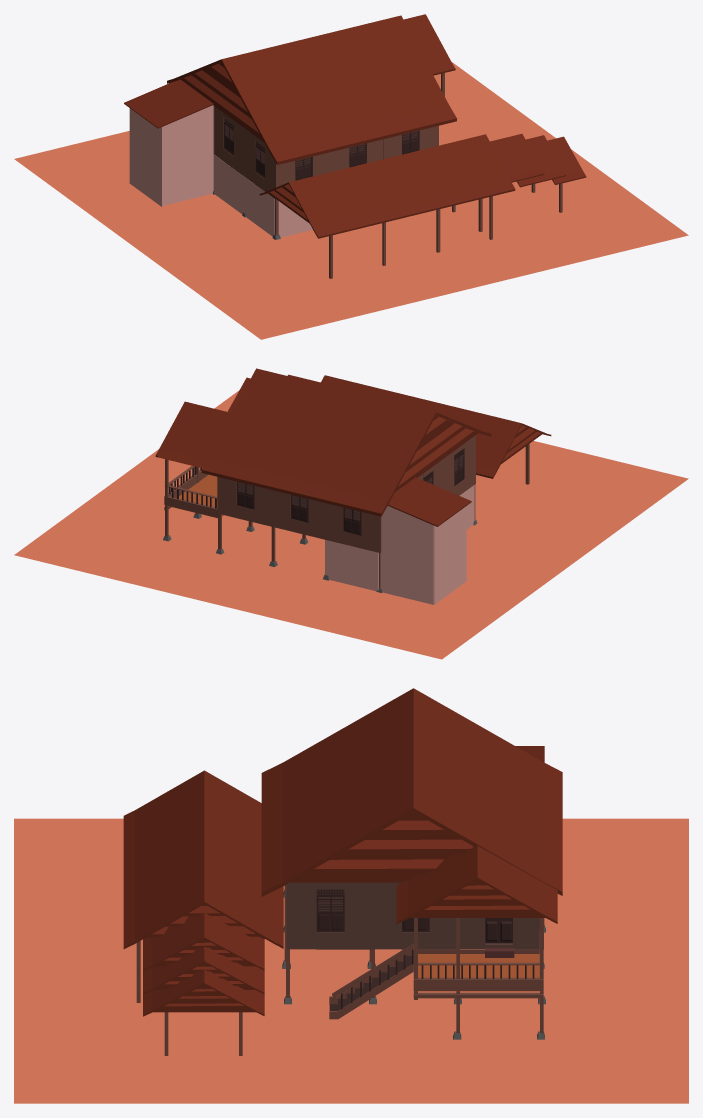
File: rumah_adat_soppeng.glb
3 renders of one model, top to bottom at view 1: azimuth 30°, elevation 25°; view 2: azimuth 150°, elevation 25°; view 3: azimuth 270°, elevation 25°, orthographic. The views are drawn at different scales.
Visible parts, largest first — view 1: Plane, Cube.039, Cube.058, Cube.091, Cube.092, Cube.093, Cube.124, Cube.107, Cube.176, Cube.057, Cube.041, Cube.056 (+2 smaller); view 2: Plane, Cube.039, Cube.229, Cube.090, Cube.058, Cube.041, Cube.092, Cube.107, Cube.108, Cube.093, Cube.245, Cube.037 (+2 smaller); view 3: Plane, Cube.039, Cube.058, Cube.074, Cube.041, Cube.057, Cube.042, Cube.245, Cube.056, Cube.246, Cube.037, Cube.314 (+3 smaller).
Part boxes in pixels (x1=…): Plane: x1=14, y1=62, x2=688, y2=339; Cube.039: x1=167, y1=15, x2=456, y2=164; Cube.058: x1=259, y1=134, x2=515, y2=238; Cube.091: x1=163, y1=105, x2=213, y2=205; Cube.092: x1=129, y1=108, x2=162, y2=206; Cube.093: x1=213, y1=106, x2=278, y2=199; Cube.124: x1=213, y1=154, x2=274, y2=236; Cube.107: x1=124, y1=80, x2=213, y2=128; Cube.176: x1=278, y1=126, x2=438, y2=185; Cube.057: x1=490, y1=134, x2=544, y2=182; Cube.041: x1=403, y1=14, x2=455, y2=75; Cube.056: x1=516, y1=135, x2=566, y2=187; Plane: x1=14, y1=390, x2=688, y2=659; Cube.039: x1=201, y1=368, x2=491, y2=516; Cube.229: x1=217, y1=477, x2=381, y2=552; Cube.090: x1=380, y1=506, x2=433, y2=604; Cube.058: x1=320, y1=375, x2=551, y2=478; Cube.041: x1=155, y1=401, x2=231, y2=468; Cube.092: x1=434, y1=506, x2=466, y2=604; Cube.107: x1=388, y1=477, x2=471, y2=526; Cube.108: x1=325, y1=540, x2=378, y2=591; Cube.093: x1=418, y1=435, x2=475, y2=495; Cube.245: x1=164, y1=466, x2=219, y2=518; Cube.037: x1=165, y1=459, x2=475, y2=588; Plane: x1=14, y1=818, x2=688, y2=1103; Cube.039: x1=261, y1=688, x2=562, y2=896; Cube.058: x1=123, y1=770, x2=283, y2=948; Cube.074: x1=286, y1=882, x2=539, y2=949; Cube.041: x1=396, y1=846, x2=557, y2=924; Cube.057: x1=143, y1=911, x2=264, y2=970; Cube.042: x1=143, y1=970, x2=264, y2=1016; Cube.245: x1=413, y1=929, x2=543, y2=998; Cube.056: x1=143, y1=946, x2=264, y2=994; Cube.246: x1=414, y1=954, x2=543, y2=991; Cube.037: x1=284, y1=886, x2=543, y2=1033; Cube.314: x1=316, y1=895, x2=344, y2=931.
Bounding box in the file's own units: 160 × 52.93 × 160.
